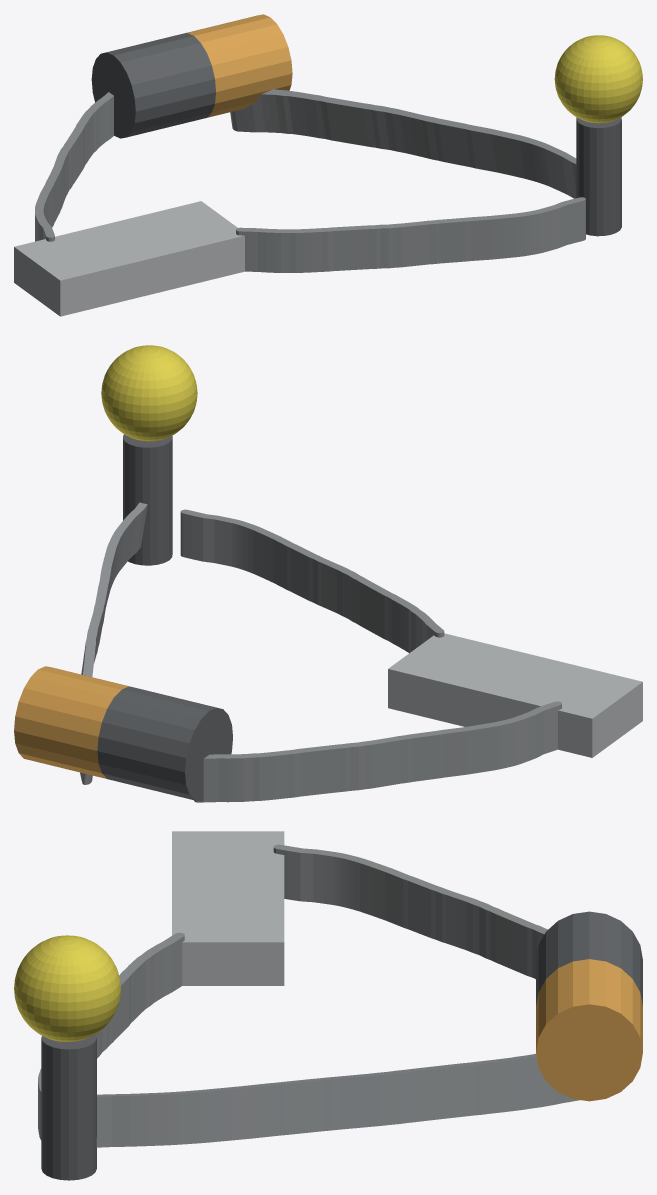
File: Circuit.glb
The picture shows the model from 3 angles, top to bottom: view 1: azimuth 30°, elevation 25°; view 2: azimuth 150°, elevation 25°; view 3: azimuth 270°, elevation 25°; orthographic projection. The views are drawn at different scales.
Parts seen in each view (by area): view 1: Mesh_Mesh_head_geo.001_lambert2SG.001; view 2: Mesh_Mesh_head_geo.001_lambert2SG.001; view 3: Mesh_Mesh_head_geo.001_lambert2SG.001.
Boxes of the visible parts, x1=… form: Mesh_Mesh_head_geo.001_lambert2SG.001: x1=14, y1=14, x2=642, y2=316; Mesh_Mesh_head_geo.001_lambert2SG.001: x1=14, y1=345, x2=642, y2=802; Mesh_Mesh_head_geo.001_lambert2SG.001: x1=14, y1=831, x2=642, y2=1180.
Bounding box in the file's own units: 140 × 51.55 × 117.
